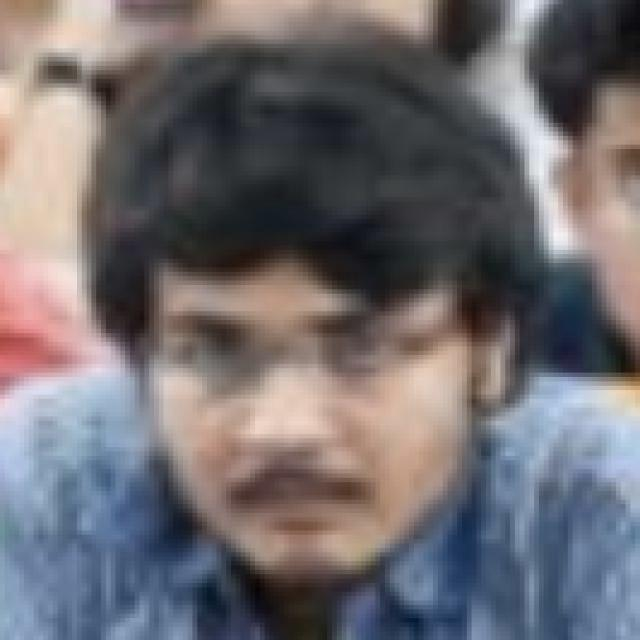Looking forward: (136, 244, 518, 584)
